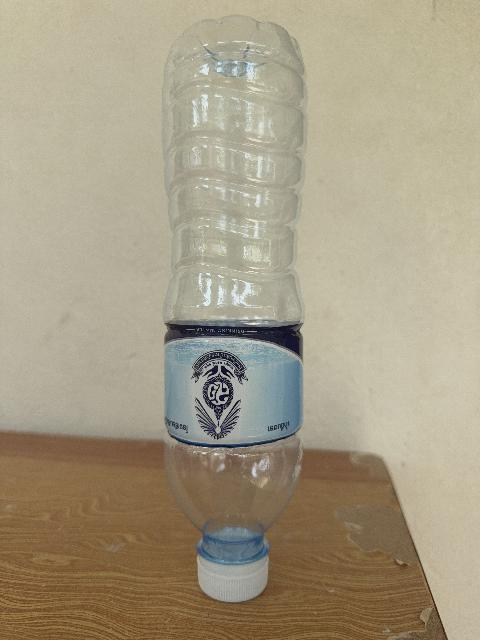bottle: (164, 16, 306, 601)
